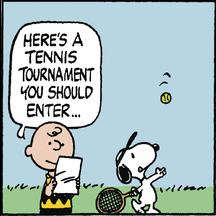charlie: (23, 120, 79, 216)
snoopy: (94, 142, 166, 214)
